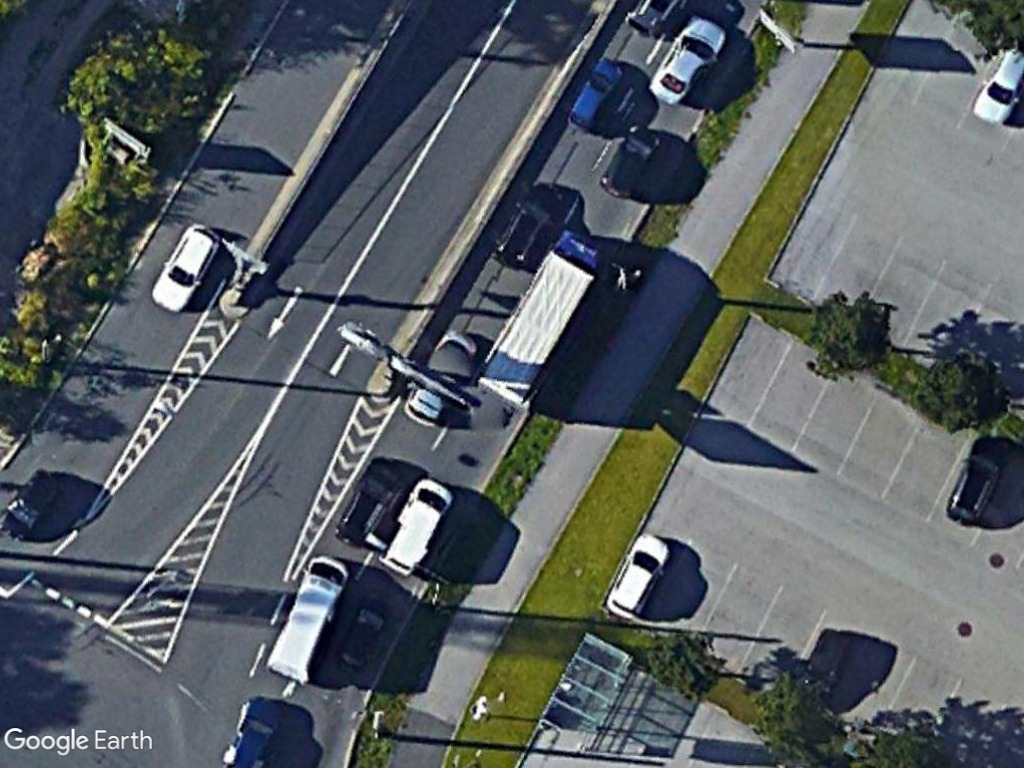car: (644, 10, 730, 110), (144, 217, 223, 318), (604, 527, 673, 626), (591, 116, 666, 198), (562, 51, 629, 132)
truck: (467, 227, 603, 411)
van: (258, 546, 352, 690), (376, 468, 452, 578)
